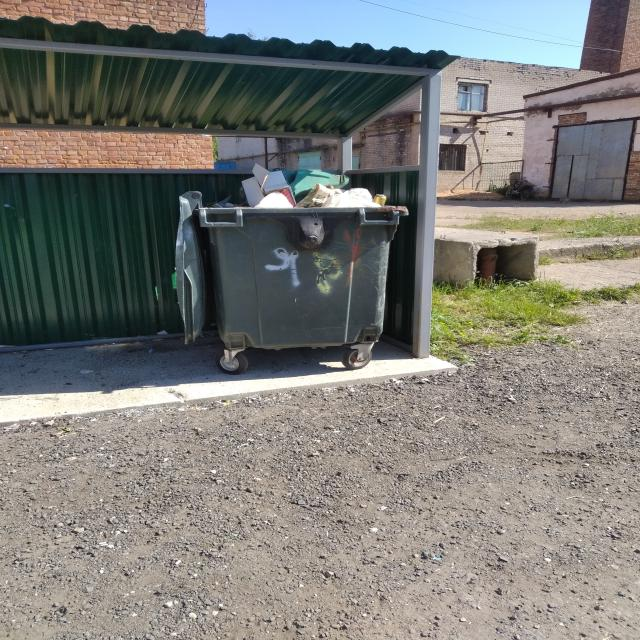bin: (203, 203, 403, 353)
plastic: (244, 172, 394, 201)
